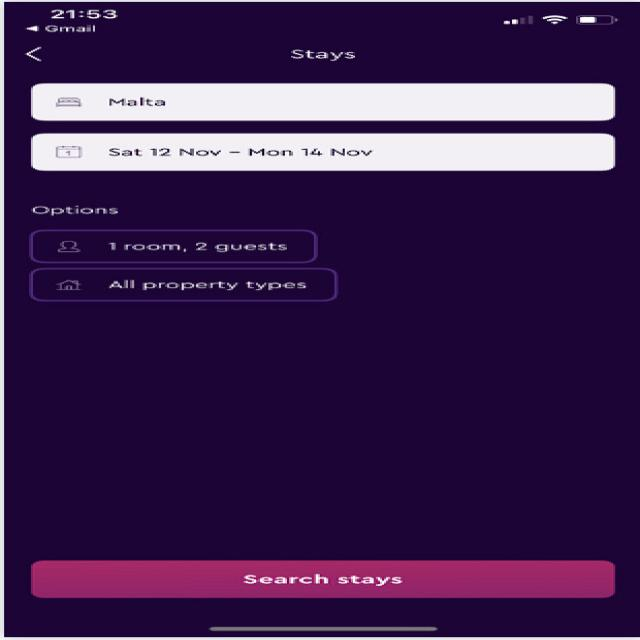button: (18, 558, 630, 605)
icon button: (10, 34, 76, 69)
input: (10, 75, 628, 126), (10, 126, 628, 175)
spacer: (33, 313, 604, 550)
text: (266, 39, 365, 64)
